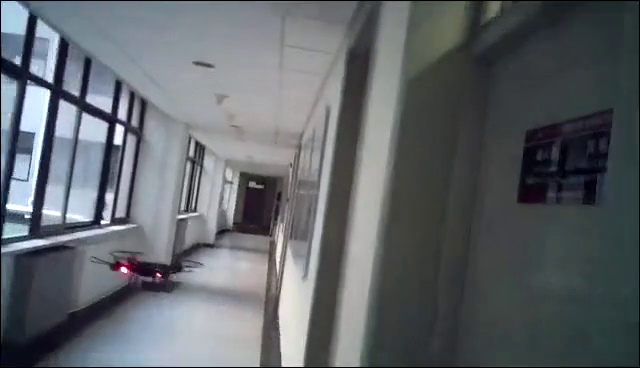drone: (88, 248, 205, 291)
